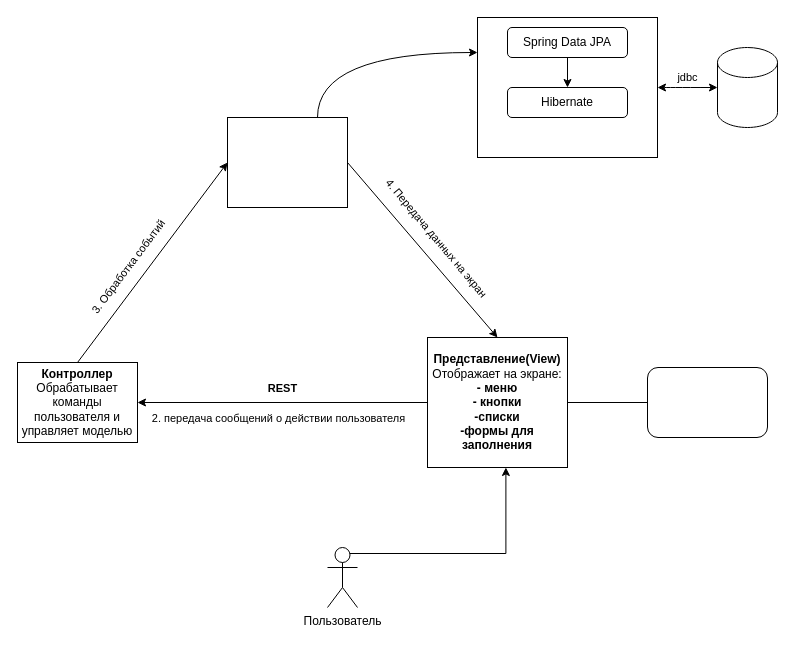
The diagram is 795 pixels wide and 646 high, and some of its shapes have lost their labels. The shapes that lost their labels are listed below. From the top down, each one's box as (x1, y1, x2, y2) in pixels, then its label:
(716, 46, 778, 128): MySQL
(226, 116, 348, 208): Модель Хранит данные и обновляет информацию по мере необходимости
(646, 366, 768, 438): React.js
